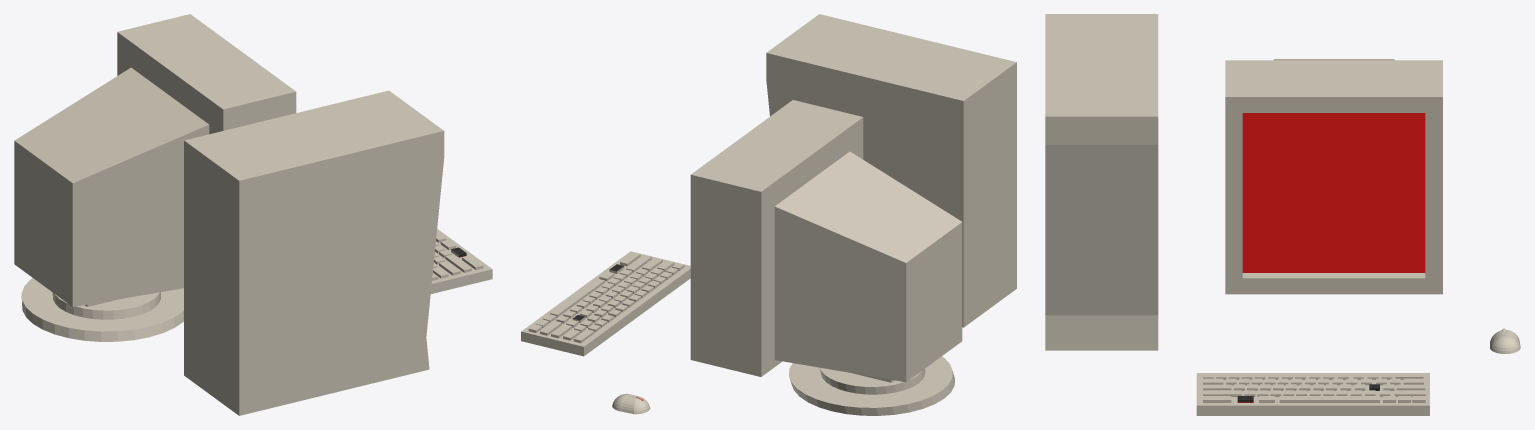
File: computerred.fbx
The picture shows the model from 3 angles, left to right: view 1: azimuth 30°, elevation 25°; view 2: azimuth 150°, elevation 25°; view 3: azimuth 270°, elevation 25°; orthographic projection. The views are drawn at different scales.
Parts seen in each view (by area): view 1: Cube.075, Cube.005, Cube.060; view 2: Cube.005, Cube.075, Cube.060, Sphere.001; view 3: Cube.005, Cube.075, Cube.060, Sphere.001.
Boxes of the visible parts, <box> form: Cube.075: <box>184,90,444,415</box>; Cube.005: <box>14,14,296,341</box>; Cube.060: <box>430,229,492,293</box>; Cube.005: <box>690,100,962,415</box>; Cube.075: <box>766,14,1016,327</box>; Cube.060: <box>521,251,690,356</box>; Sphere.001: <box>612,393,650,414</box>; Cube.005: <box>1225,59,1442,294</box>; Cube.075: <box>1045,14,1158,350</box>; Cube.060: <box>1196,373,1429,415</box>; Sphere.001: <box>1490,328,1520,353</box>.
Size of the model in its own units: 131 by 75.24 by 133.
3 materials, 3 textured.
